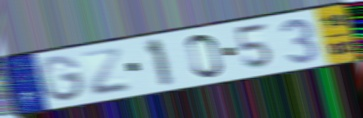0: (185, 32, 224, 79)
1: (144, 37, 177, 90)
3: (279, 16, 320, 65)
5: (232, 23, 275, 72)
G: (37, 53, 88, 103)
Z: (79, 46, 133, 98)
